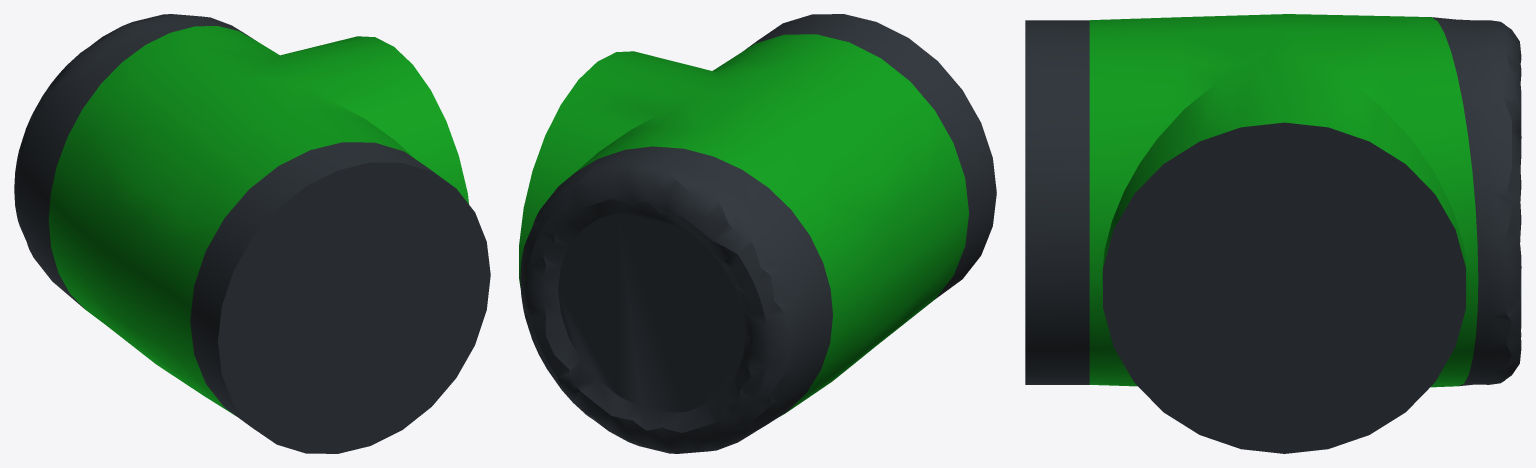
3 views of the same model, side by side, from view 1: azimuth 30°, elevation 25°; view 2: azimuth 150°, elevation 25°; view 3: azimuth 270°, elevation 25° (orthographic). The views are drawn at different scales.
Visible parts, largest first — view 1: Link_4; view 2: Link_4; view 3: Link_4.
Part boxes in pixels (x1,y1,x2,y2): Link_4: [14, 14, 490, 453]; Link_4: [519, 14, 996, 453]; Link_4: [1025, 14, 1521, 453].
Size of the model in its own units: 0.0977 by 0.0944 by 0.1235.
